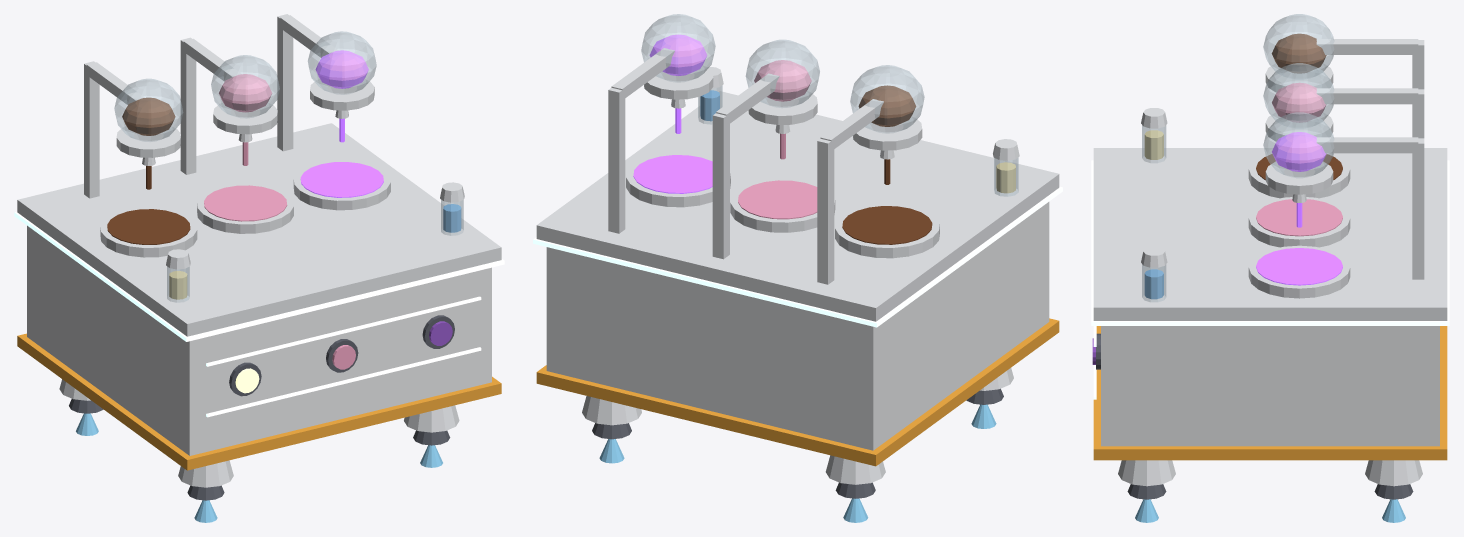
File: Donut_GlazeStation.fbx
The picture shows the model from 3 angles, left to right: view 1: azimuth 30°, elevation 25°; view 2: azimuth 150°, elevation 25°; view 3: azimuth 270°, elevation 25°; orthographic projection. The views are drawn at different scales.
Visible parts, largest first — view 1: Donut_GlazeStation; view 2: Donut_GlazeStation; view 3: Donut_GlazeStation.
Part boxes in pixels (x1=…): Donut_GlazeStation: x1=14, y1=14, x2=504, y2=522; Donut_GlazeStation: x1=533, y1=14, x2=1062, y2=522; Donut_GlazeStation: x1=1091, y1=14, x2=1449, y2=522.
Bounding box in the file's own units: 1.58 × 1.8 × 1.48.
